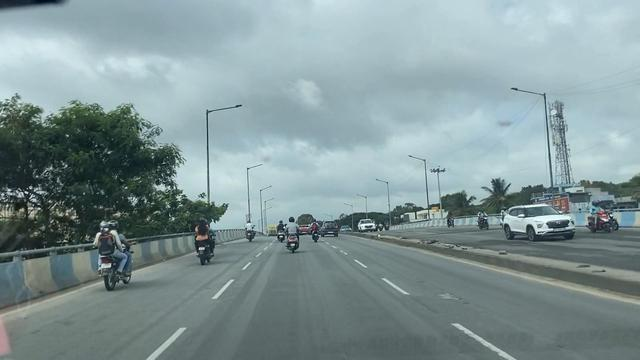LMV: (96, 221, 127, 286), (192, 216, 224, 265), (280, 214, 305, 254), (241, 218, 258, 242), (309, 218, 319, 244), (324, 219, 338, 237)
RoadDamages: (439, 288, 463, 306)
